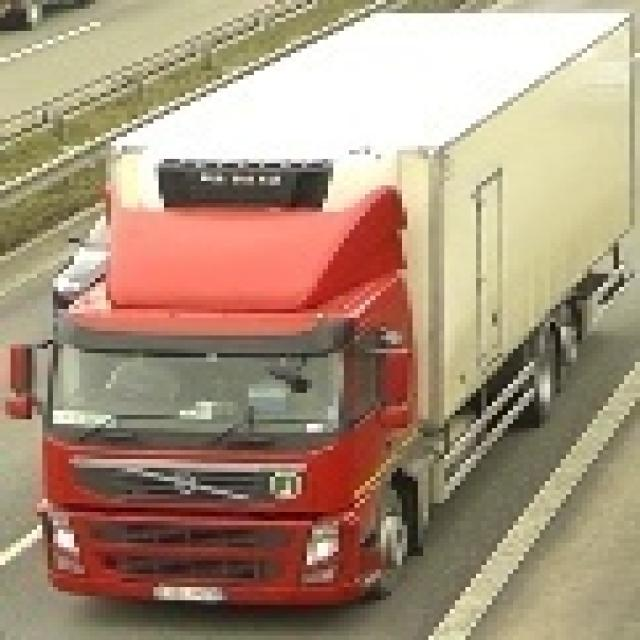TRUCK: (2, 0, 640, 604)
